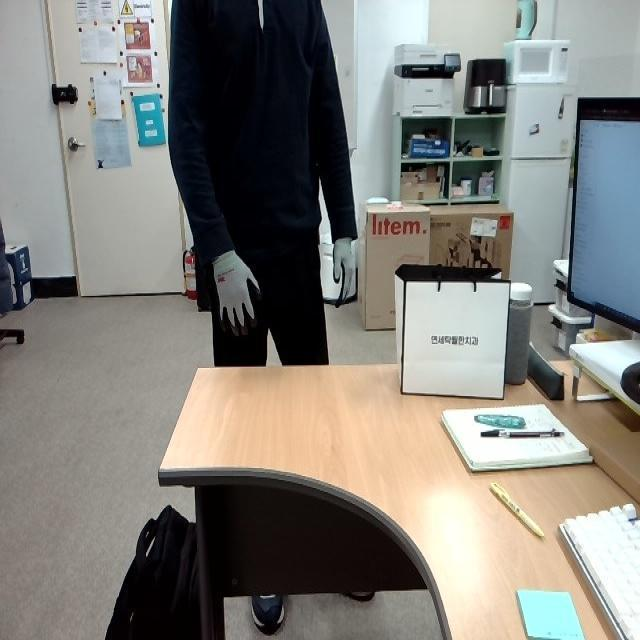gloved_hand: (203, 247, 269, 336), (320, 227, 360, 310)
